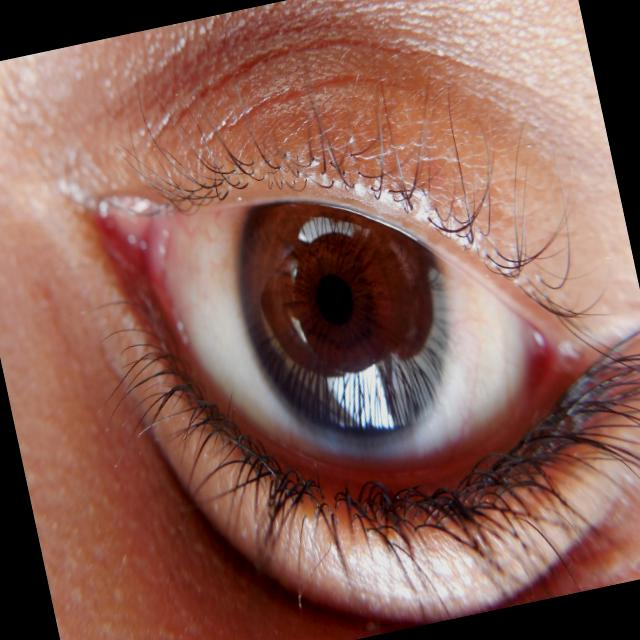Normal: (71, 126, 630, 562)
